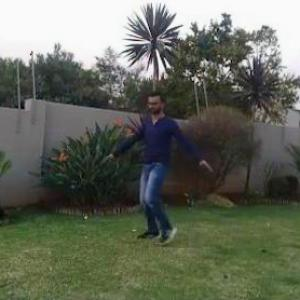land: (112, 68, 233, 267)
